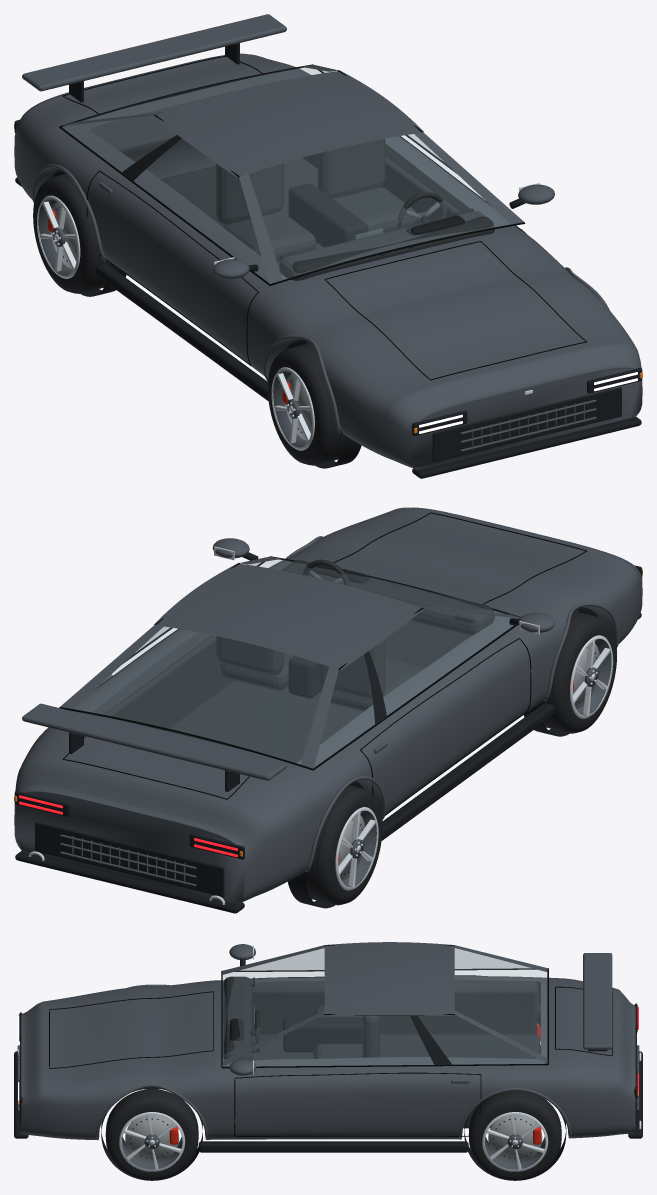
File: barracuda.glb
3 renders of one model, top to bottom at view 1: azimuth 30°, elevation 25°; view 2: azimuth 150°, elevation 25°; view 3: azimuth 270°, elevation 25°, orthographic. The views are drawn at different scales.
Visible parts, largest first — view 1: Sculpted body shell.019, Windshield.019, Painted roof.019, Side glass.038, Rear aero wing.005, Front grille housing.019, Interior dashboard.019, Tire.078, Tire.076, Rocker aero sill.038, Interior seat back.065, Interior centre console.019 (+18 smaller); view 2: Sculpted body shell.019, Rear glass.019, Painted roof.019, Side glass.038, Interior cabin floor.019, Rear aero wing.005, Interior door card.039, Rear diffuser grille.019, Tire.076, Tire.078, Interior dashboard.019, Rocker aero sill.038 (+27 smaller); view 3: Sculpted body shell.019, Side glass.039, Painted roof.019, Interior door card.038, Rear glass.019, Windshield.019, Interior cabin floor.019, Tire.079, Tire.077, Rocker aero sill.039, Rear aero wing.005, Interior centre console.019 (+25 smaller).
Part boxes in pixels (left/top/right/bottom): Sculpted body shell.019: left=14, top=53, right=642, bottom=469; Windshield.019: left=249, top=134, right=510, bottom=279; Painted roof.019: left=161, top=72, right=417, bottom=174; Side glass.038: left=62, top=116, right=268, bottom=282; Rear aero wing.005: left=22, top=14, right=286, bottom=91; Front grille housing.019: left=432, top=387, right=621, bottom=461; Interior dashboard.019: left=279, top=211, right=494, bottom=280; Tire.078: left=267, top=343, right=344, bottom=465; Tire.076: left=33, top=173, right=110, bottom=293; Rocker aero sill.038: left=95, top=263, right=268, bottom=400; Interior seat back.065: left=317, top=138, right=385, bottom=198; Interior centre console.019: left=288, top=183, right=368, bottom=247; Sculpted body shell.019: left=14, top=507, right=642, bottom=903; Rear glass.019: left=74, top=627, right=328, bottom=763; Painted roof.019: left=161, top=564, right=417, bottom=667; Side glass.038: left=314, top=609, right=512, bottom=766; Interior cabin floor.019: left=166, top=658, right=424, bottom=762; Rear aero wing.005: left=22, top=703, right=286, bottom=780; Interior door card.039: left=101, top=635, right=233, bottom=730; Rear diffuser grille.019: left=35, top=822, right=224, bottom=896; Tire.076: left=305, top=785, right=382, bottom=905; Tire.078: left=540, top=611, right=616, bottom=733; Interior dashboard.019: left=282, top=560, right=494, bottom=635; Rocker aero sill.038: left=381, top=703, right=554, bottom=840; Sculpted body shell.019: left=21, top=976, right=635, bottom=1140; Side glass.039: left=224, top=1015, right=545, bottom=1066; Painted roof.019: left=324, top=942, right=454, bottom=1014; Interior door card.038: left=252, top=988, right=536, bottom=1034; Rear glass.019: left=455, top=948, right=547, bottom=1057; Windshield.019: left=223, top=948, right=324, bottom=1060; Interior cabin floor.019: left=252, top=1034, right=540, bottom=1060; Tire.079: left=105, top=1089, right=198, bottom=1180; Tire.077: left=468, top=1090, right=561, bottom=1180; Rocker aero sill.039: left=198, top=1141, right=468, bottom=1152; Rear aero wing.005: left=583, top=953, right=612, bottom=1049; Interior centre console.019: left=283, top=1017, right=362, bottom=1052.
Bounding box in the file's own units: 2.47 × 1.41 × 5.14.
